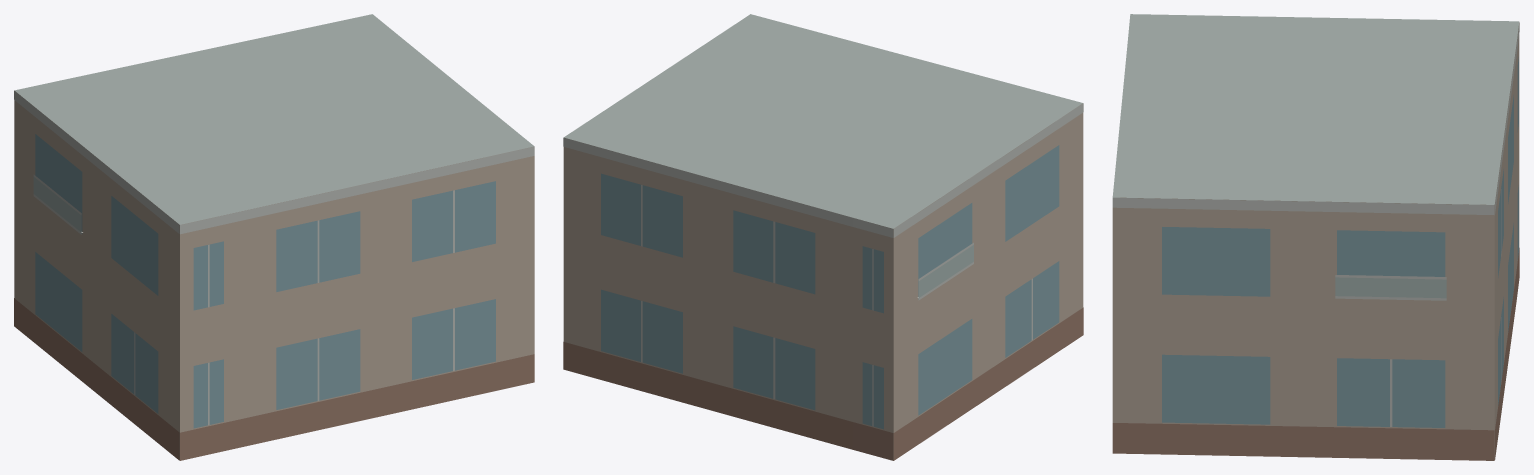
File: survey-upis-32827172.glb
3 renders of one model, left to right at view 1: azimuth 30°, elevation 25°; view 2: azimuth 150°, elevation 25°; view 3: azimuth 270°, elevation 25°, orthographic. The views are drawn at different scales.
Parts seen in each view (by area): view 1: survey-upis-32827172.tmp; view 2: survey-upis-32827172.tmp; view 3: survey-upis-32827172.tmp.
Part boxes in pixels (x1,y1,x2,y2): survey-upis-32827172.tmp: (14,14,534,460); survey-upis-32827172.tmp: (563,14,1083,460); survey-upis-32827172.tmp: (1112,14,1519,460).
Bounding box in the file's own units: 9.77 × 6.1 × 8.8.
